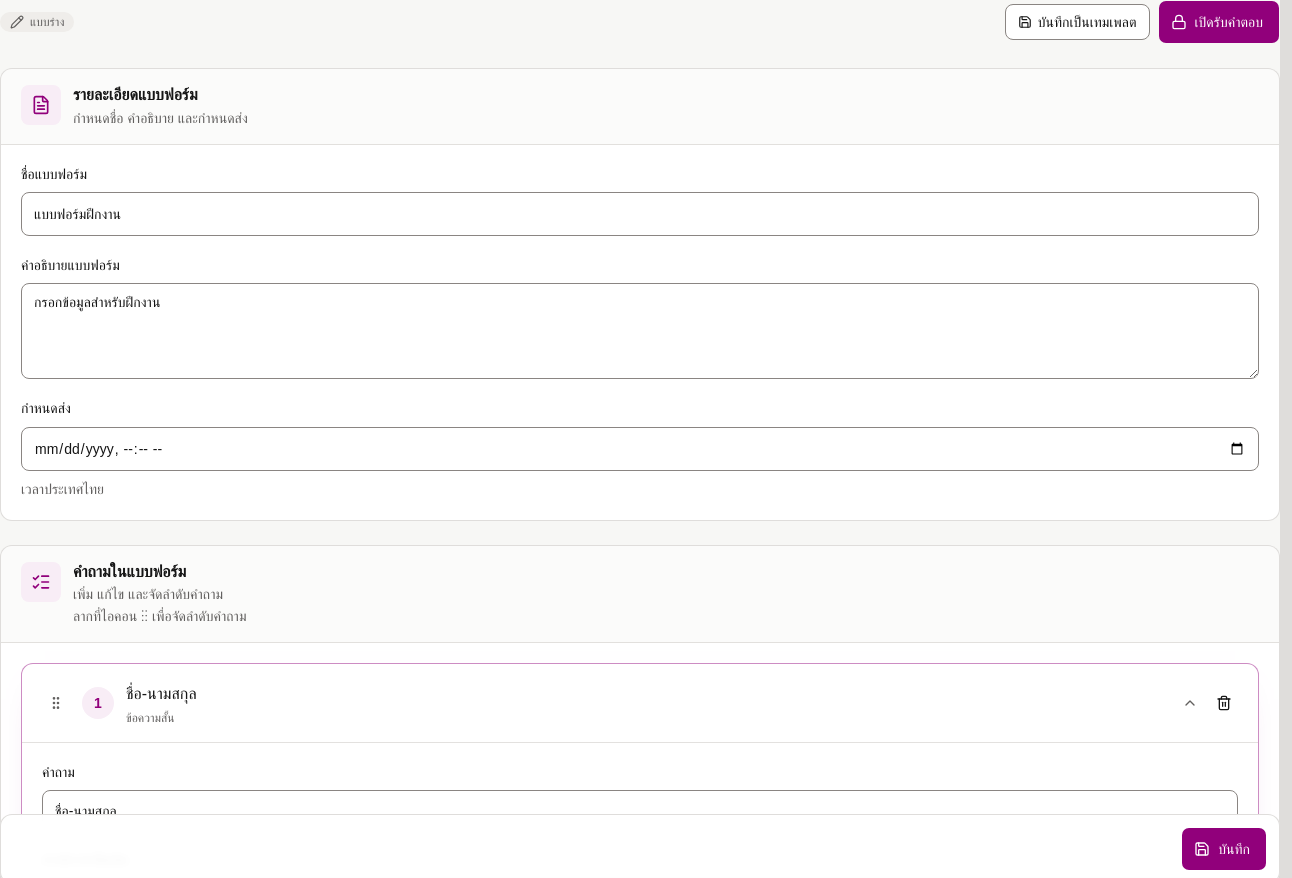
Test: FormBuilder draft editing › keeps every edit when the form changed elsewhere
Step 1. Type " ฉบับแก้ไข" into the field labelled "ชื่อแบบฟอร์ม" → [640, 214], box [21,192,1259,236]
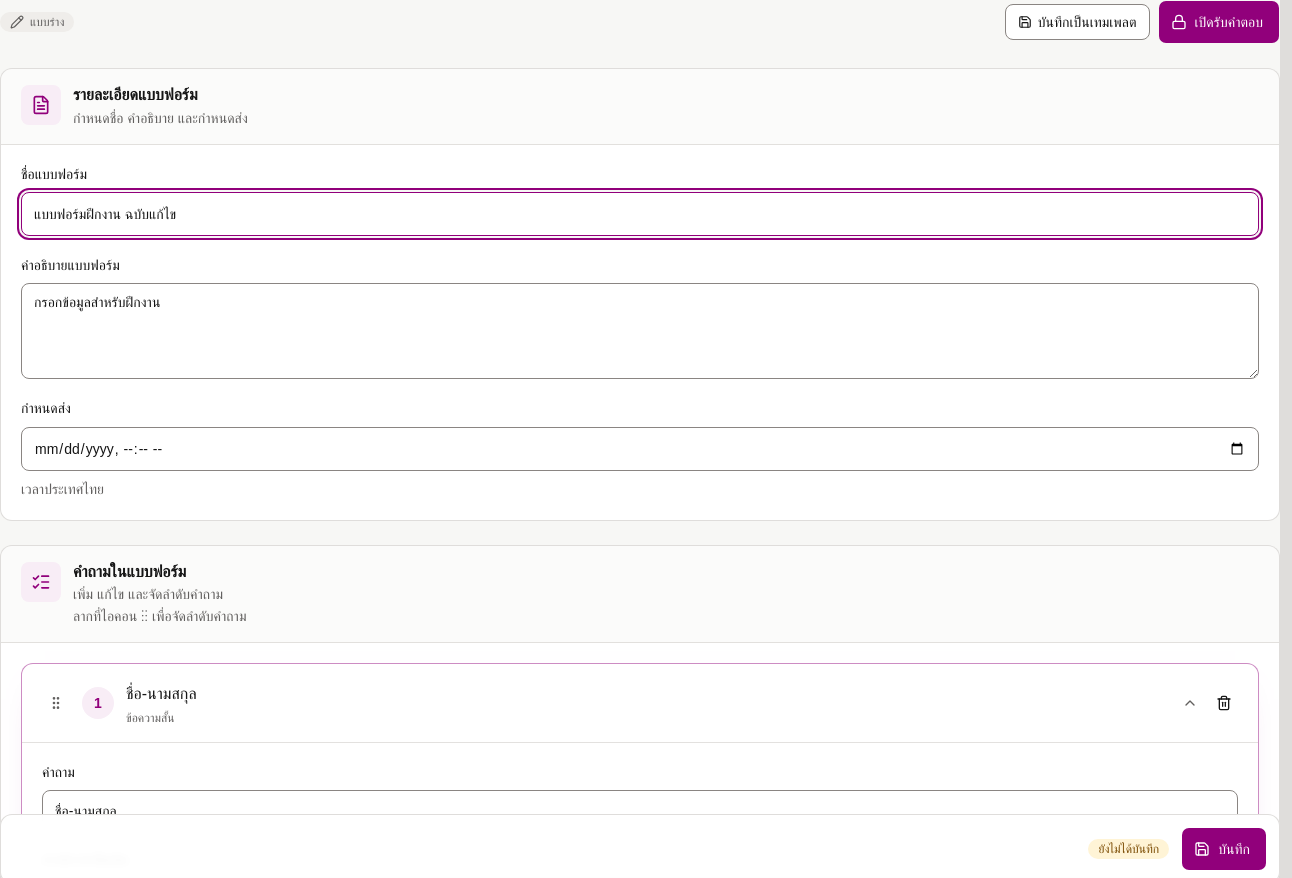
Step 2. Click the button "บันทึก" → [1224, 849], box [1181,827,1267,871]
(page scrolled)
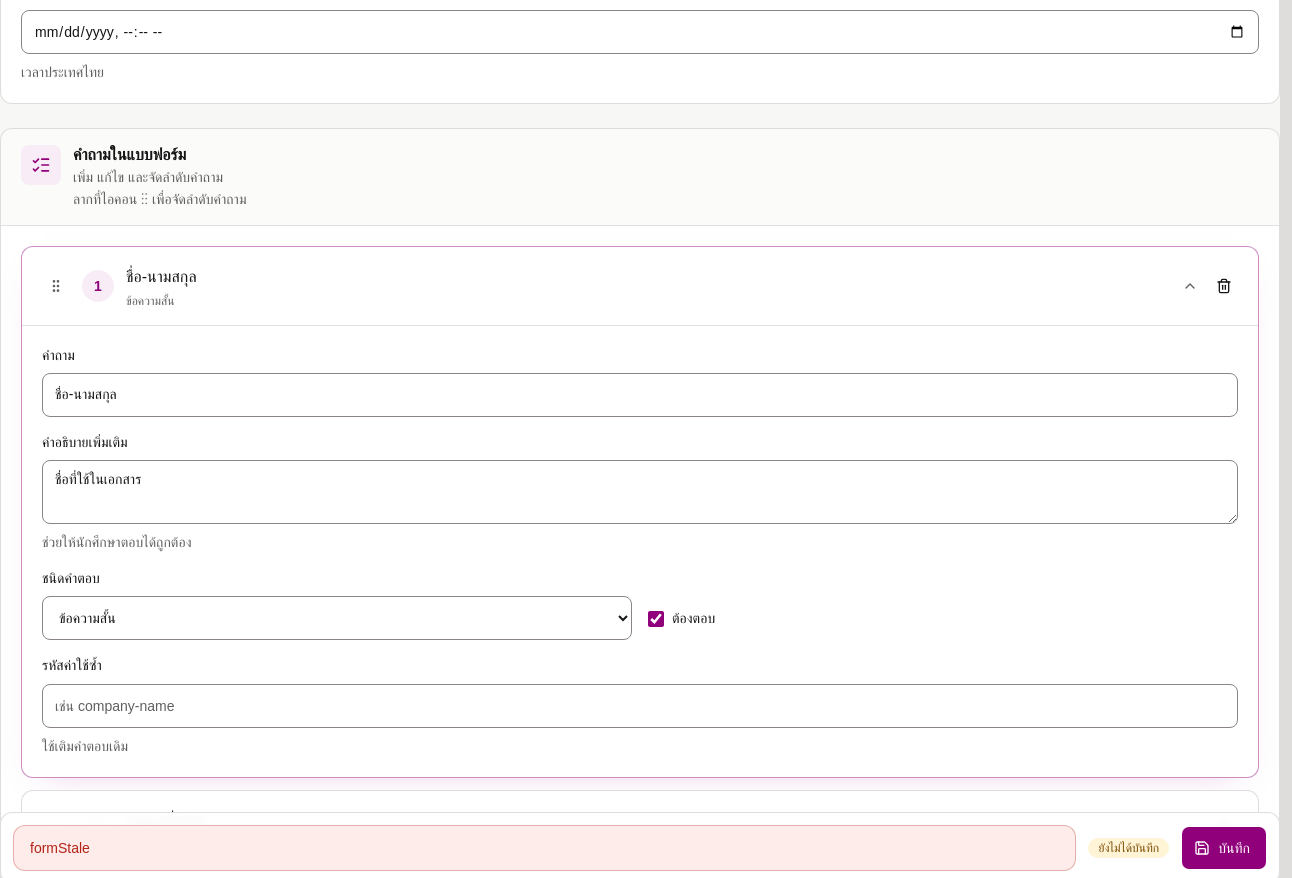
Result: the text "ยังไม่ได้บันทึก" is shown at [1088,838,1169,858]
Result: the message reads "formStale" at [30,840,90,856]
